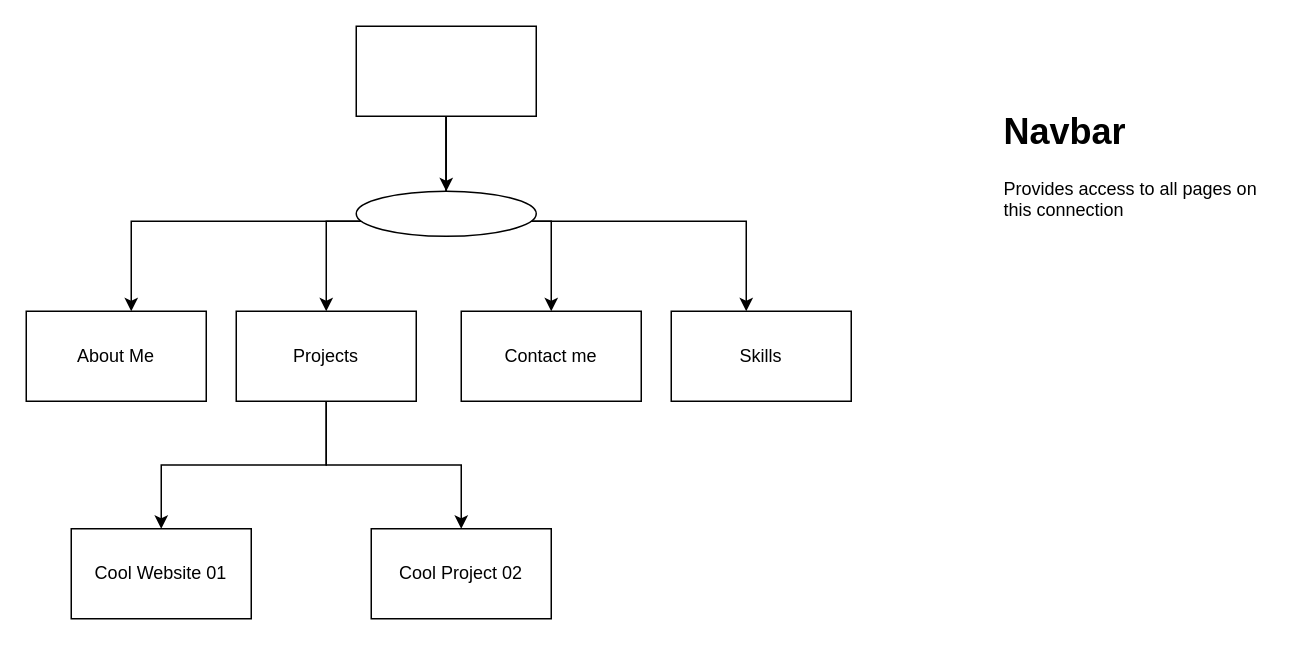
Some shapes in this 1298 by 645 pixel diagram are drawn without their labels. Each missing label, with the centre of its shape:
"Home" goes at point 445,70.
"Navbar" goes at point 445,213.
